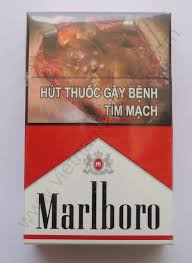marlboro: (26, 14, 169, 242)
